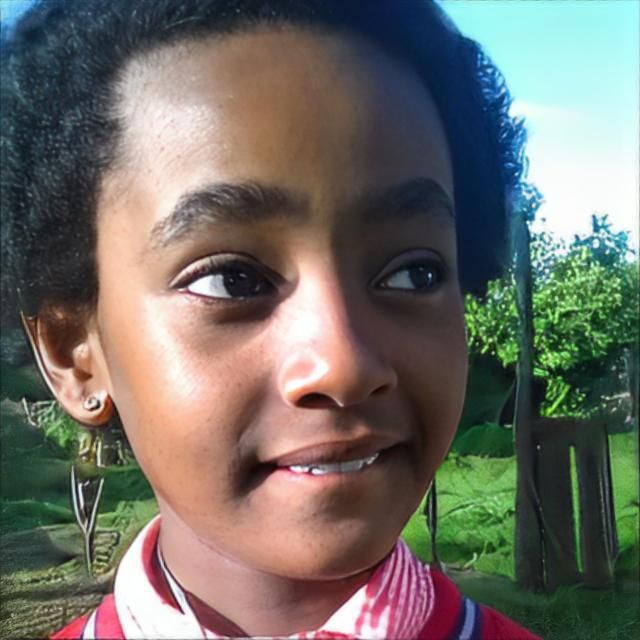content: (99, 40, 472, 580)
